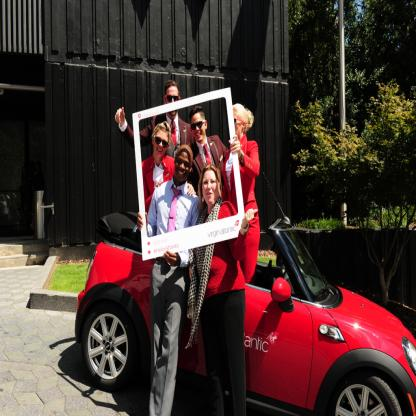Car: (76, 174, 416, 416)
